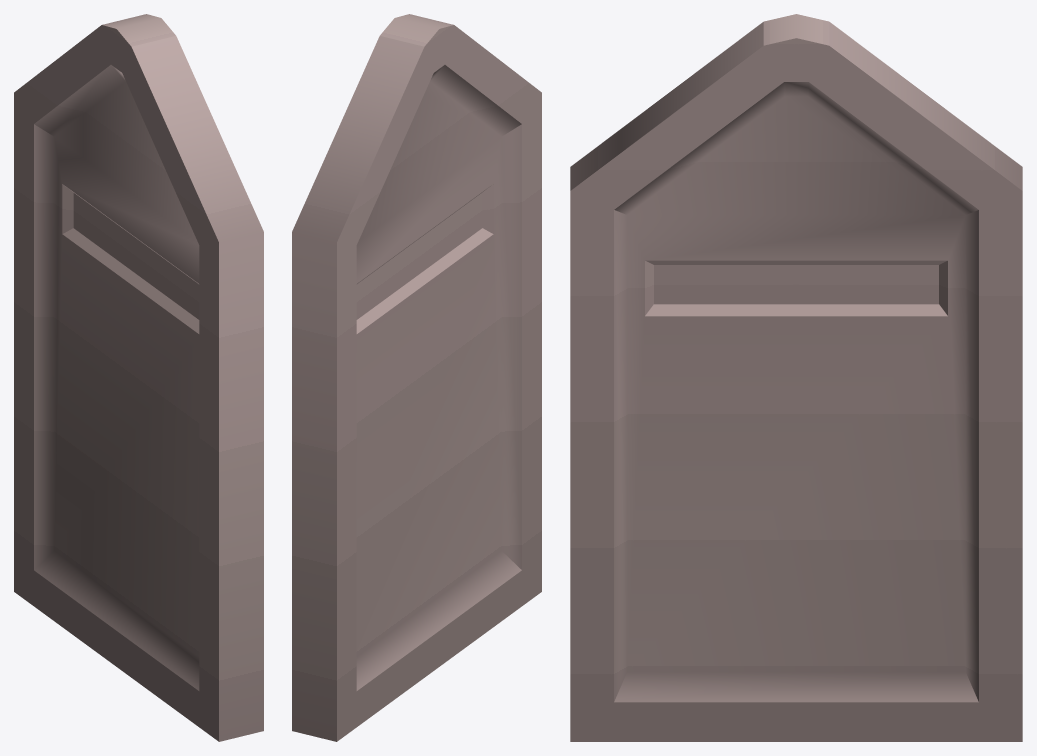
The model's file is SM_Gravestone_01.fbx.
3 views of the same model, side by side, from view 1: azimuth 30°, elevation 25°; view 2: azimuth 150°, elevation 25°; view 3: azimuth 270°, elevation 25° (orthographic). The views are drawn at different scales.
Visible parts, largest first — view 1: Gravestone_01; view 2: Gravestone_01; view 3: Gravestone_01.
Boxes of the visible parts, x1,y1,x2,y2 form: Gravestone_01: [14, 14, 263, 741]; Gravestone_01: [292, 14, 541, 741]; Gravestone_01: [570, 14, 1022, 741].
Bounding box in the file's own units: 15.2 × 207 × 121.
Materials: 1 (1 with a texture image).
